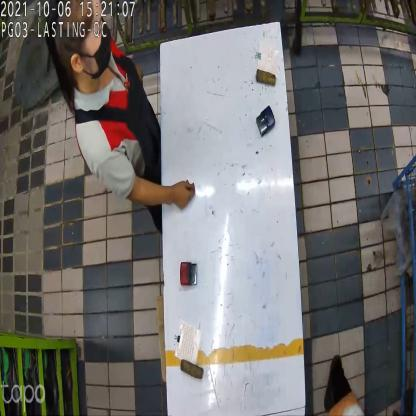stamp: (257, 103, 276, 136), (179, 259, 197, 288)
